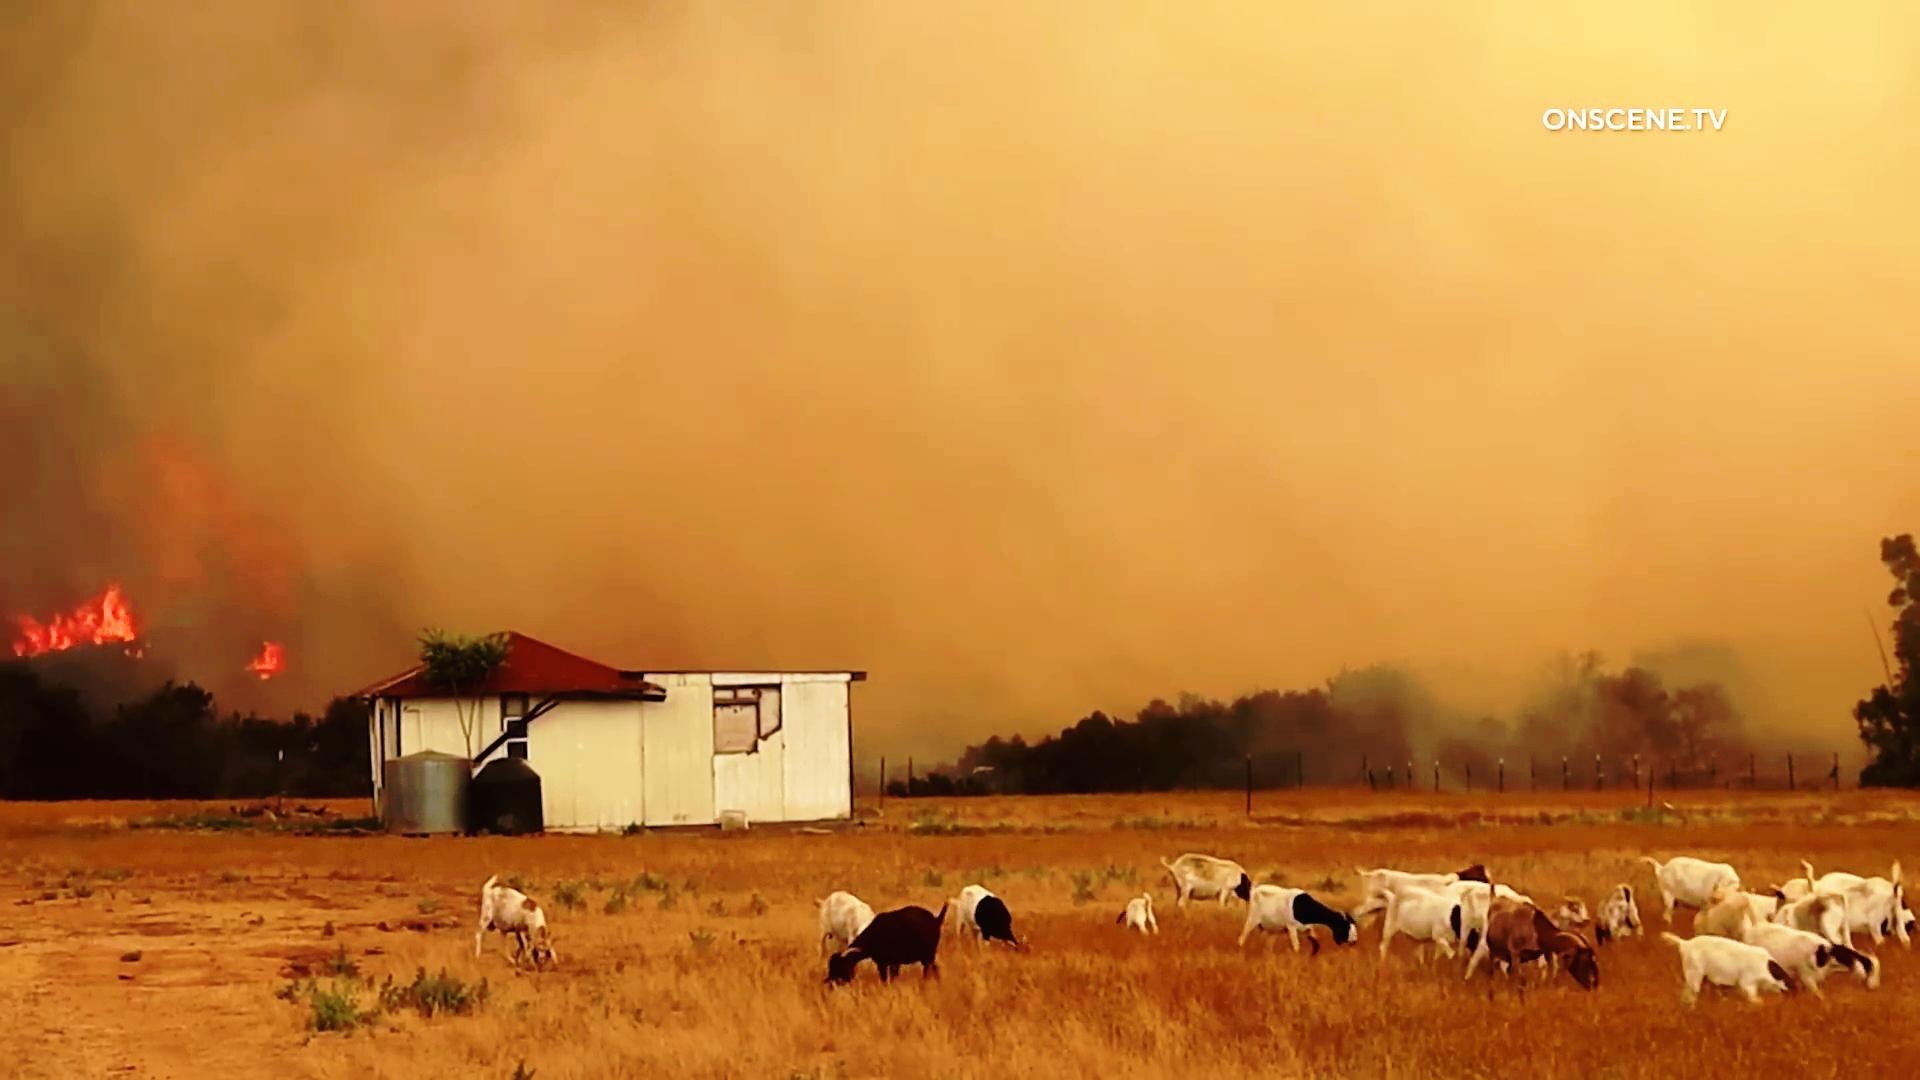fire: (30, 583, 171, 673)
smoke: (303, 202, 698, 625)
